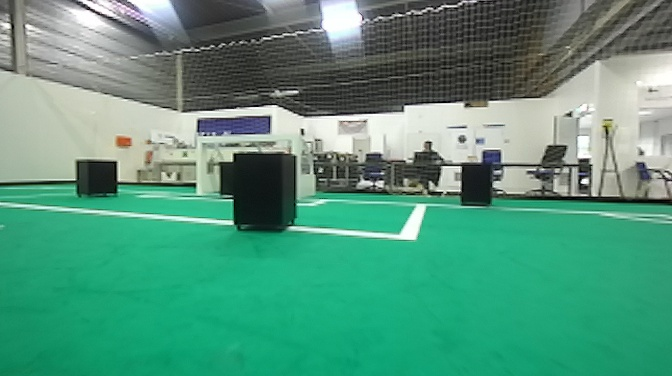goalpost: (192, 135, 206, 196), (290, 134, 303, 159)
